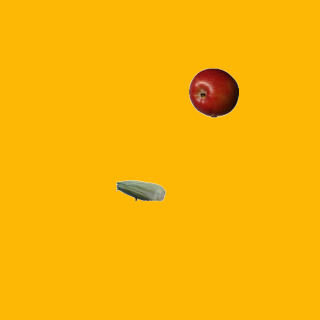Apple Braeburn: (188, 67, 238, 117)
Corn Husk: (115, 165, 165, 215)
